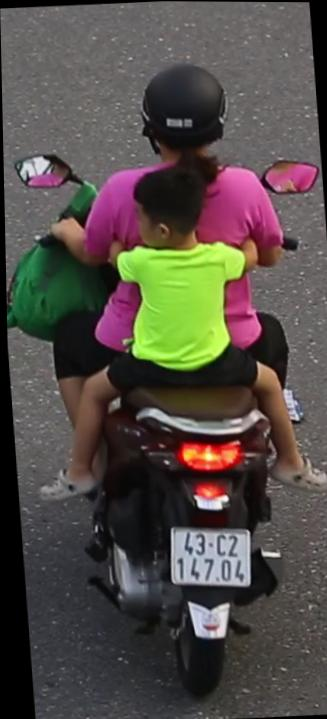LP: (159, 508, 258, 609)
helmet: (137, 52, 230, 166)
no helmet: (122, 164, 215, 264)
